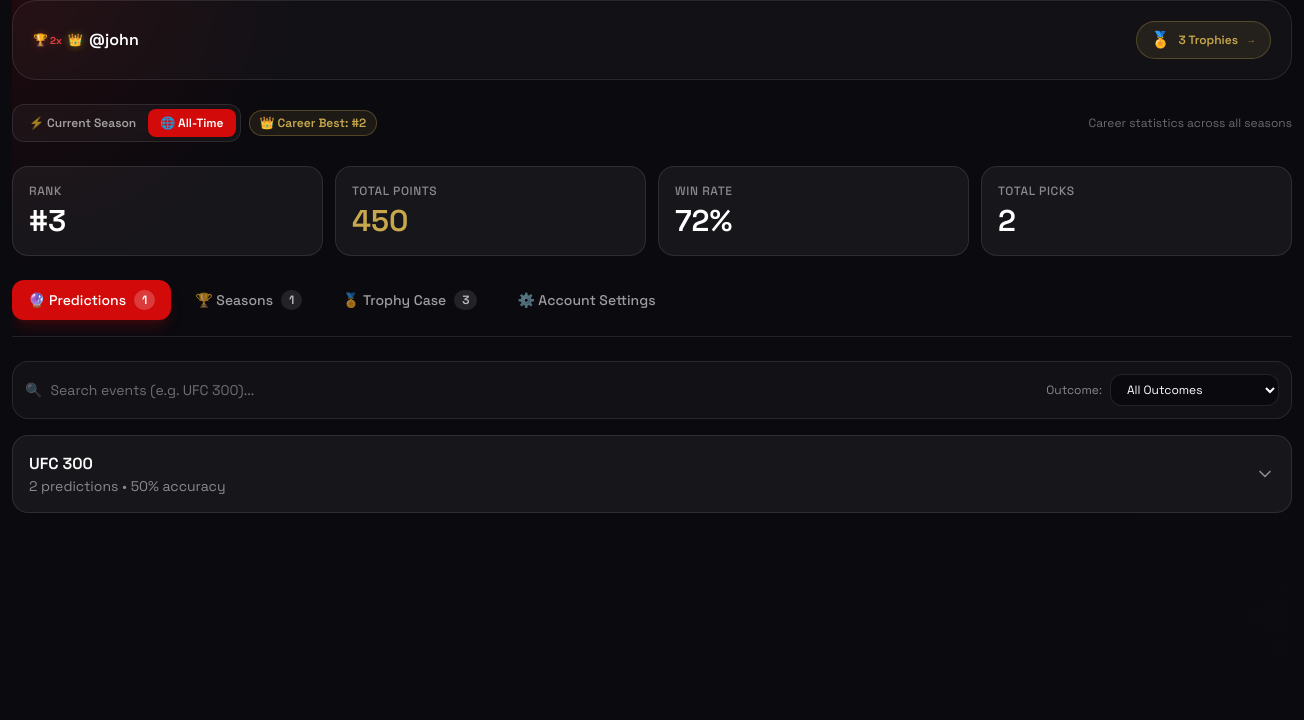
ProfileView › switches to Seasons tab and displays season history cards
// Switch to Seasons tab
Click the button "🏆 Seasons 1" at x=249, y=300, box [179,280,318,320]
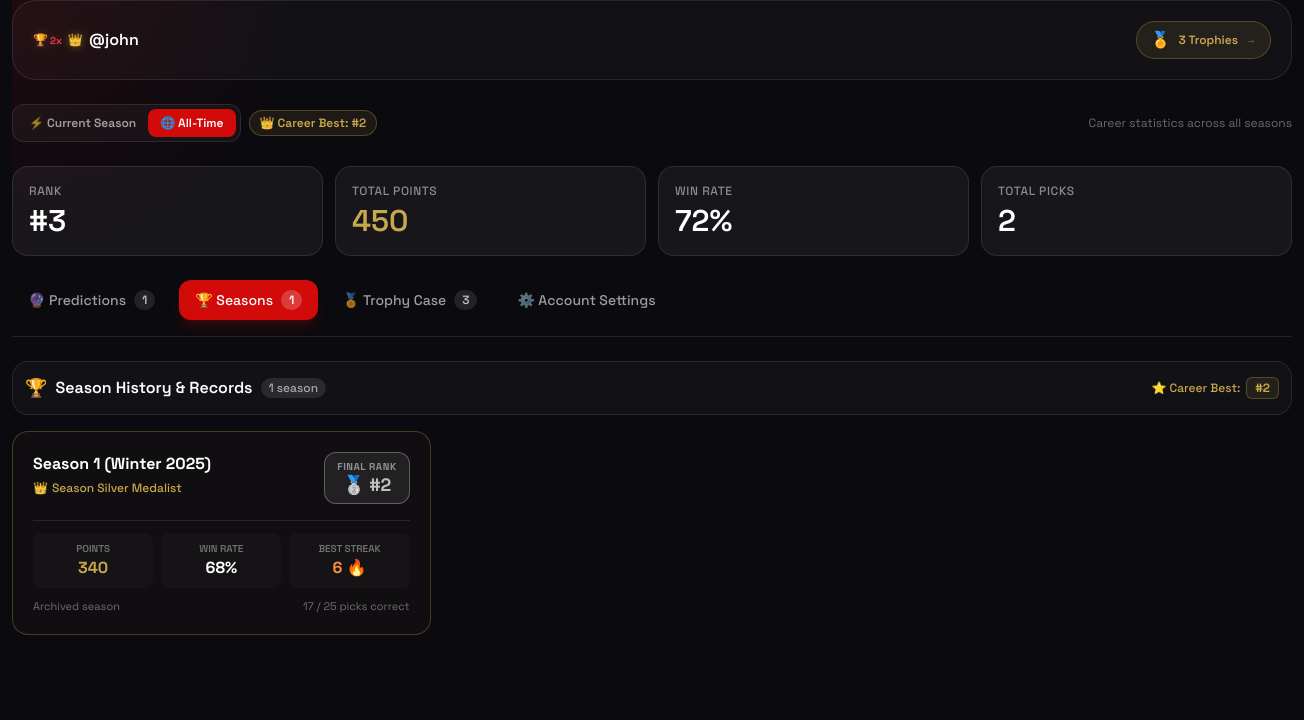
Expected: the heading "Season 1 (Winter 2025)" is shown, [33,452,211,476]
Expected: the text "#2" next to "⭐ Career Best:" is shown, [1246,377,1279,399]
Expected: the text "Final Rank" is shown, [337,459,397,474]
